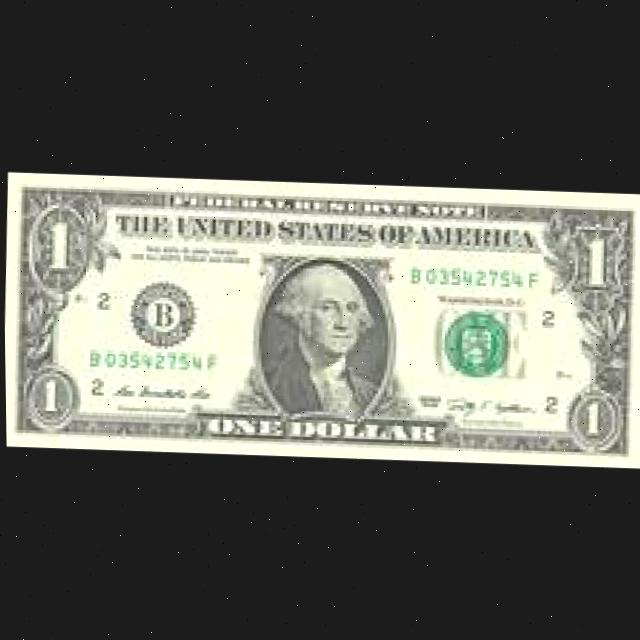banknote: (2, 169, 640, 468)
